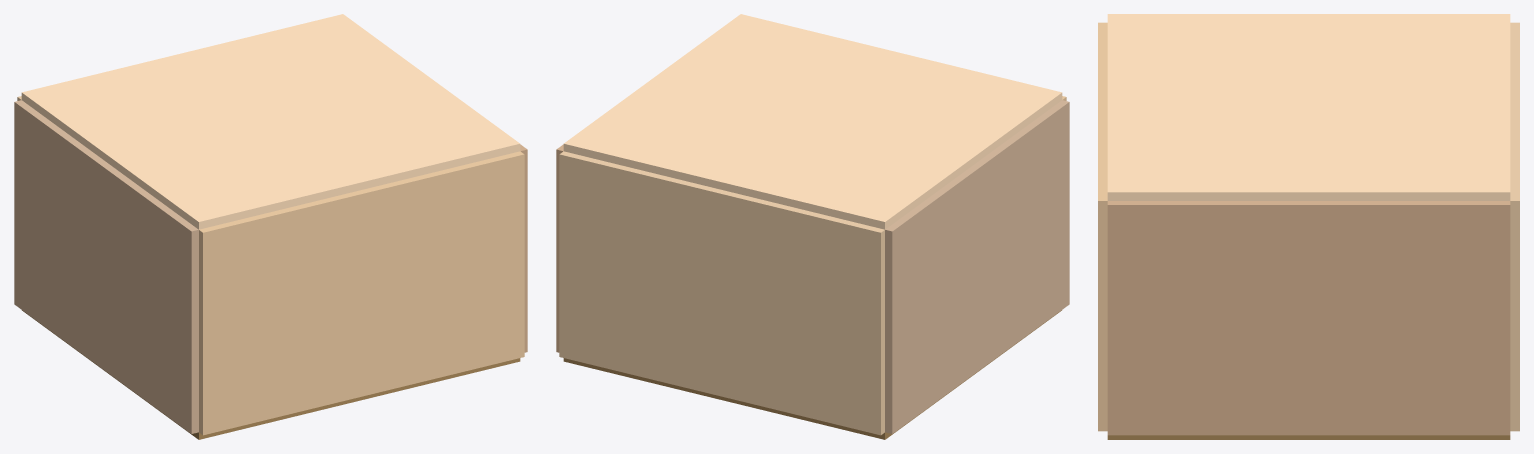
The model's file is room_shell.glb.
3 views of the same model, side by side, from view 1: azimuth 30°, elevation 25°; view 2: azimuth 150°, elevation 25°; view 3: azimuth 270°, elevation 25° (orthographic). The views are drawn at different scales.
Parts seen in each view (by area): view 1: room_shell_back, room_shell_ceiling, room_shell_left, room_shell_floor, room_shell_right; view 2: room_shell_front, room_shell_ceiling, room_shell_left, room_shell_floor, room_shell_right; view 3: room_shell_right, room_shell_ceiling, room_shell_back, room_shell_front, room_shell_floor.
Boxes of the visible parts, x1,y1,x2,y2 form: room_shell_back: (199,151,524,435); room_shell_ceiling: (21,14,520,229); room_shell_left: (14,100,198,433); room_shell_floor: (22,310,520,439); room_shell_right: (520,144,527,352); room_shell_front: (559,151,884,435); room_shell_ceiling: (563,14,1062,229); room_shell_left: (885,100,1069,433); room_shell_floor: (563,310,1061,439); room_shell_right: (556,144,563,352); room_shell_right: (1107,201,1510,435); room_shell_ceiling: (1107,14,1510,200); room_shell_back: (1098,22,1107,431); room_shell_front: (1510,22,1519,431); room_shell_floor: (1107,435,1510,439).
Bounding box in the file's own units: 4.6 × 2.85 × 4.4.
